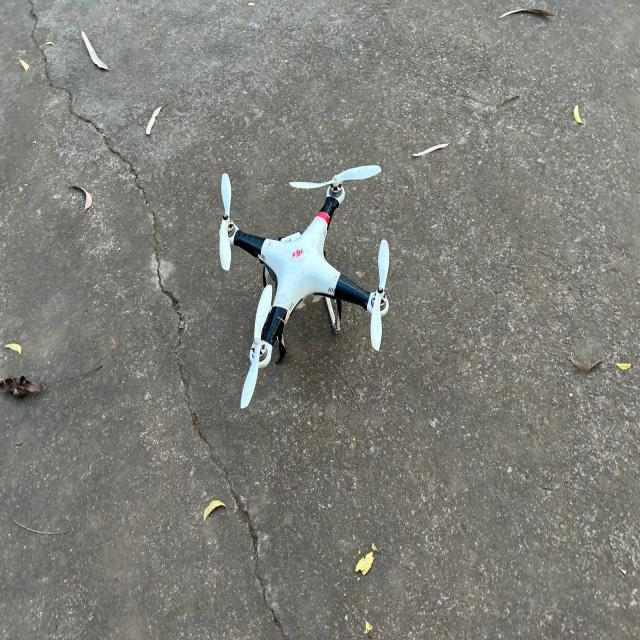drone: (126, 81, 472, 462)
